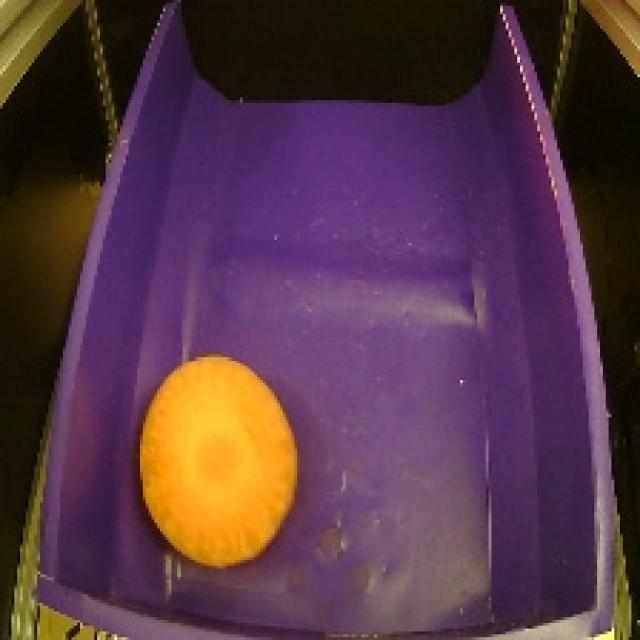carrots: (127, 346, 305, 578)
